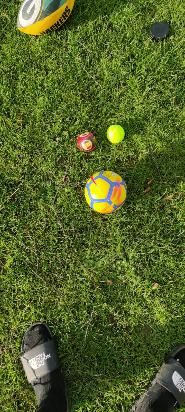Football mini: (83, 165, 126, 213)
Honkball: (78, 132, 97, 152)
hockey puck: (148, 18, 170, 44)
tennis: (105, 126, 124, 142)
